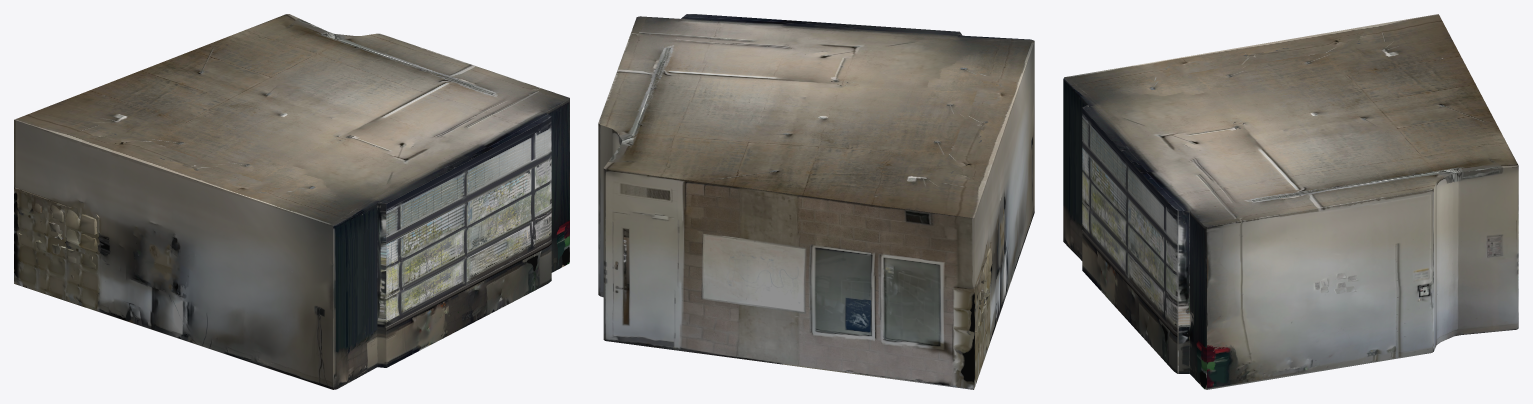
The picture shows the model from 3 angles, left to right: view 1: azimuth 30°, elevation 25°; view 2: azimuth 150°, elevation 25°; view 3: azimuth 270°, elevation 25°; orthographic projection. The views are drawn at different scales.
Parts seen in each view (by area): view 1: M102a-IM; view 2: M102a-IM; view 3: M102a-IM.
Part boxes in pixels (x1,y1,x2,y2): M102a-IM: (14,14,569,389); M102a-IM: (598,14,1034,389); M102a-IM: (1063,14,1518,389).
Size of the model in its own units: 897 by 320 by 809.
